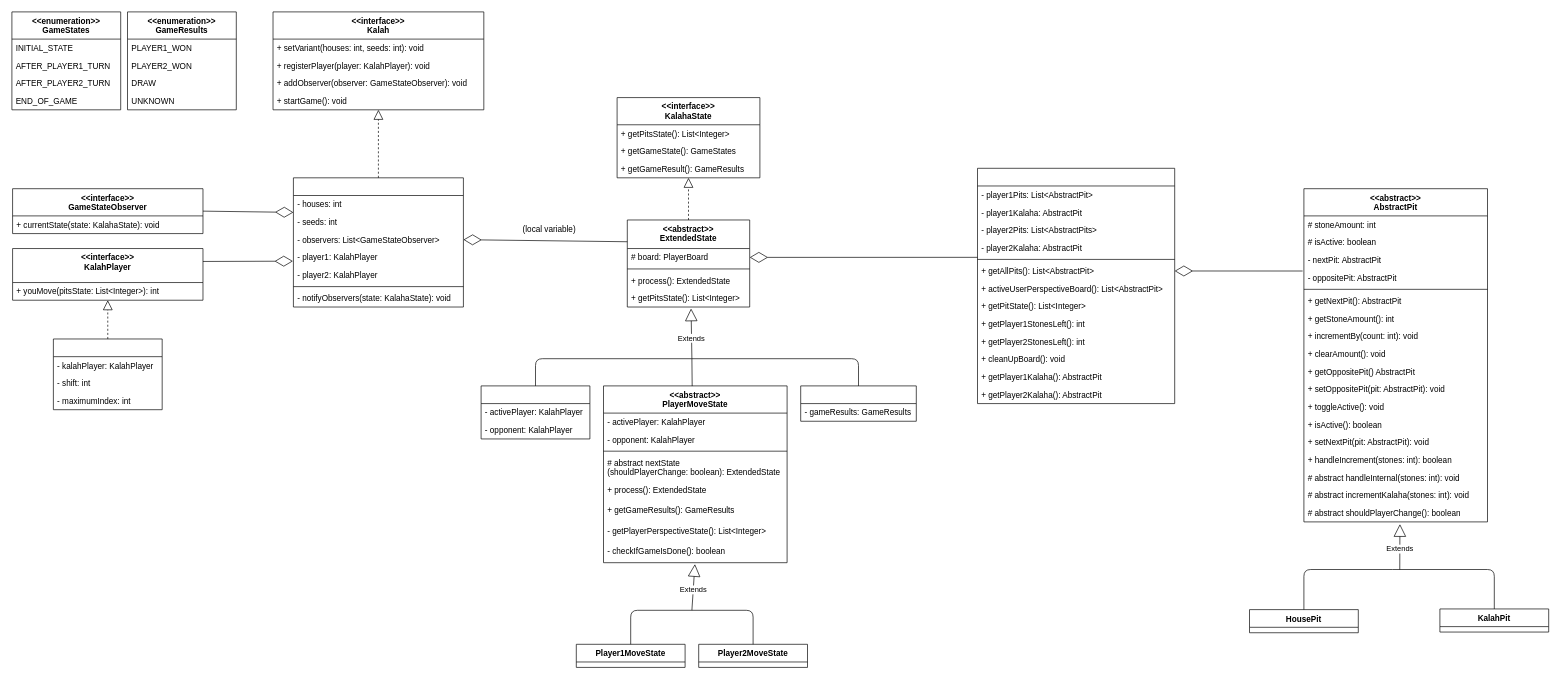
Image size: 1561x679. Some labels were removed from this diagram. The box of each missing label's shape, as (x1, y1, x2, y2) in pixels:
EndState: (800, 385, 916, 421)
InitState: (480, 385, 590, 439)
KalahaGame: (293, 177, 463, 307)
PlayerBoard: (977, 168, 1175, 404)
PlayerDecorator: (53, 338, 162, 410)
